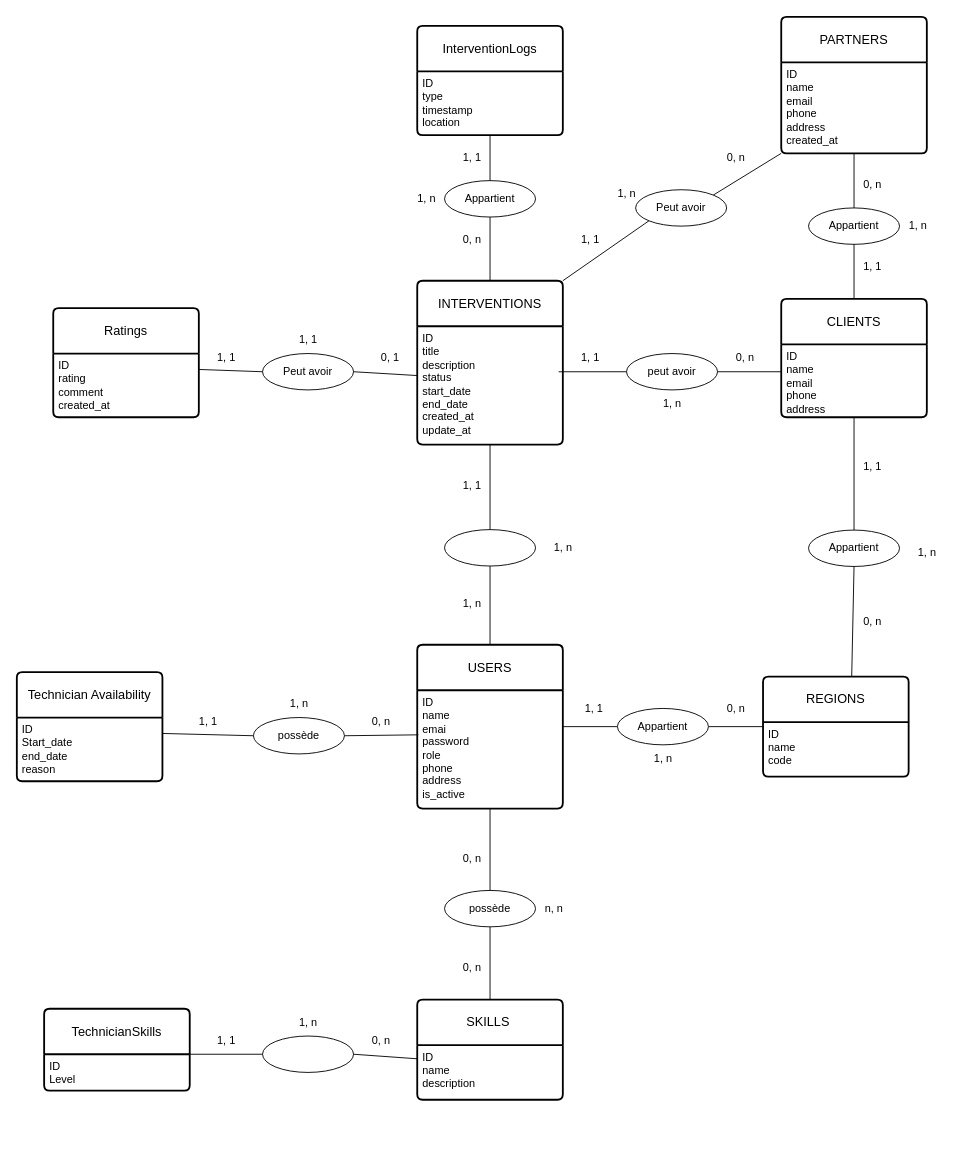
The diagram is 960 pixels wide and 1154 high, and some of its shapes have lost their labels. The centre of each missing label's shape, as x and y in pixels:
"Attribute" goes at pixel 308 1053.
"est associé à" goes at pixel 490 547.
